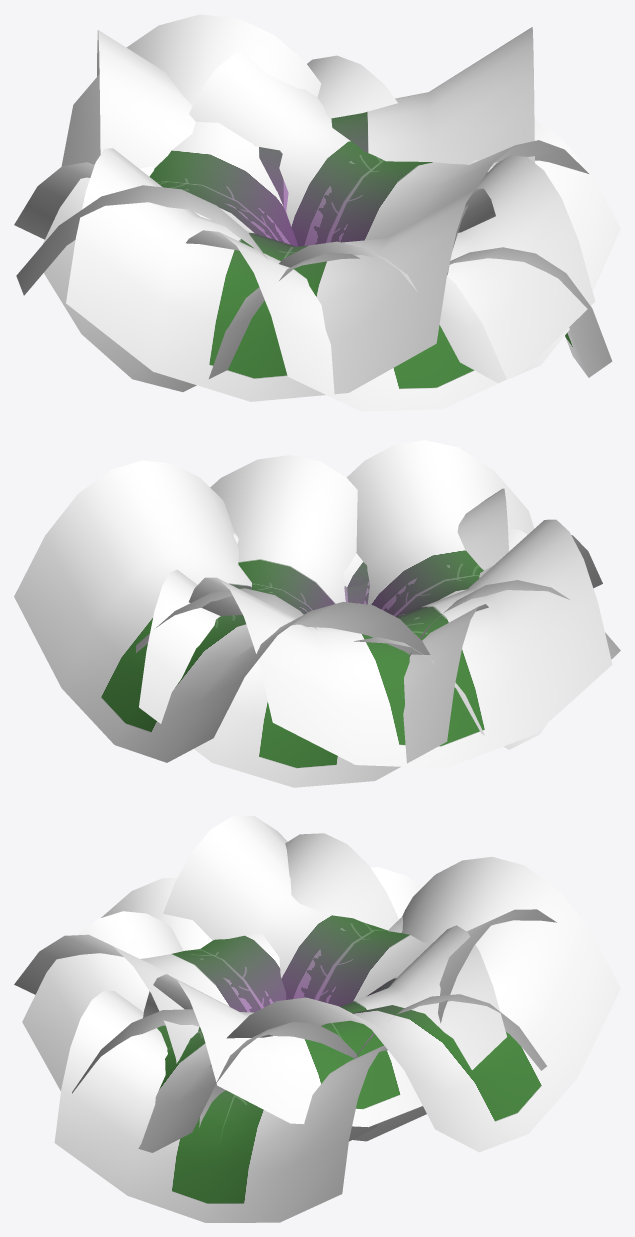
File: Weeds.FBX
3 renders of one model, top to bottom at view 1: azimuth 30°, elevation 25°; view 2: azimuth 150°, elevation 25°; view 3: azimuth 270°, elevation 25°, orthographic. The views are drawn at different scales.
Visible parts, largest first — view 1: Plane001; view 2: Plane001; view 3: Plane001.
Boxes of the visible parts, left/top/right/bottom form: Plane001: left=14, top=14, right=620, bottom=411; Plane001: left=14, top=440, right=620, bottom=787; Plane001: left=14, top=816, right=620, bottom=1222.
Size of the model in its own units: 182 by 184 by 78.2.
